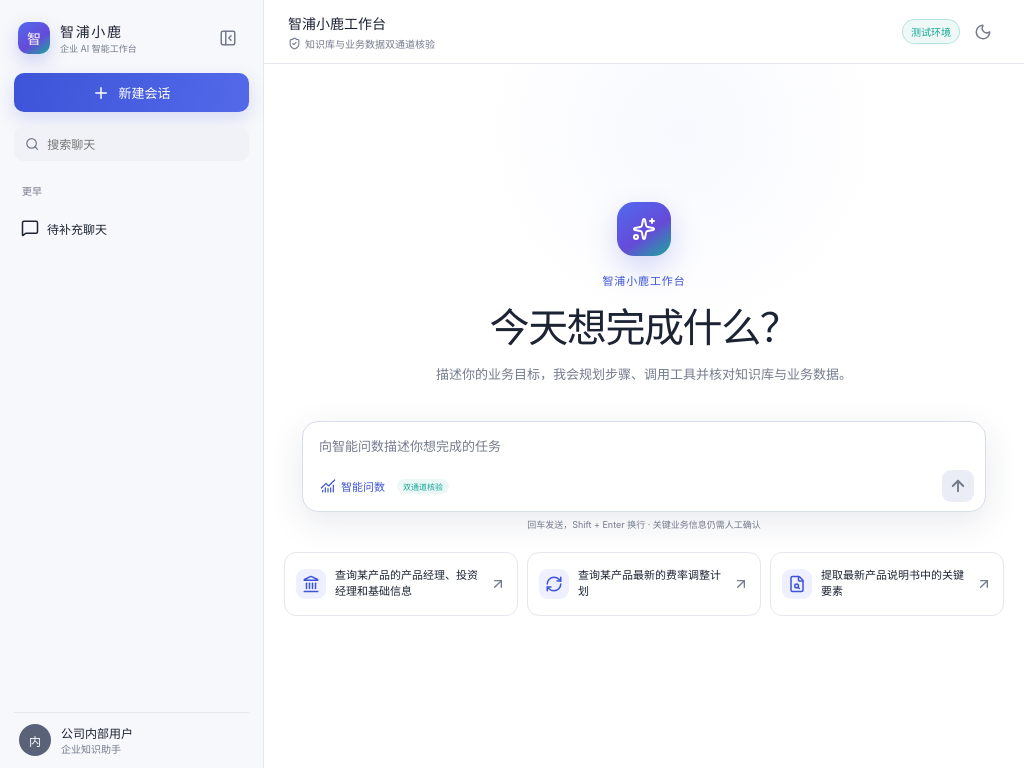
it: App › 刷新后按后端状态恢复历史追问
The image size is (1024, 768).
Click the button "待补充聊天" at (117, 228), box left=14, top=211, right=220, bottom=245
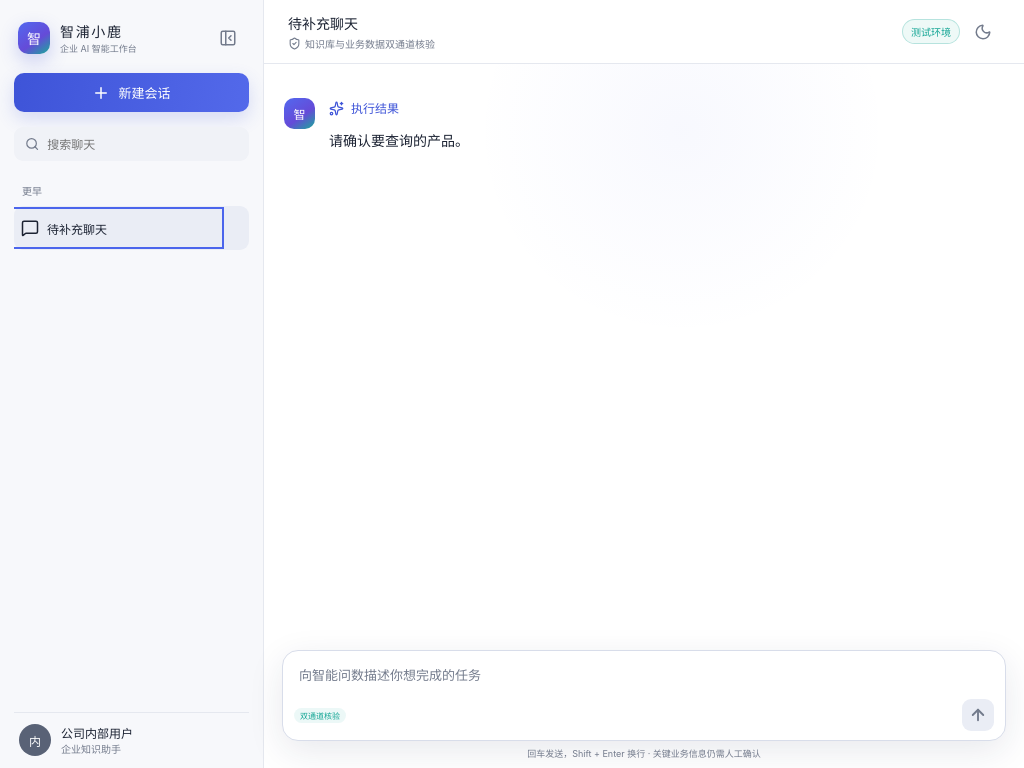
Expected: the text "请确认要查询的产品。" is shown, left=329, top=132, right=469, bottom=149
